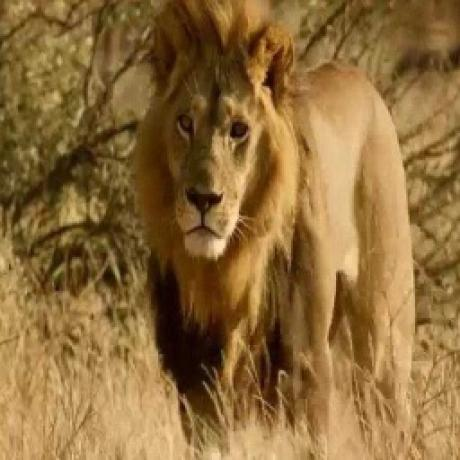Lion: (130, 0, 414, 430)
